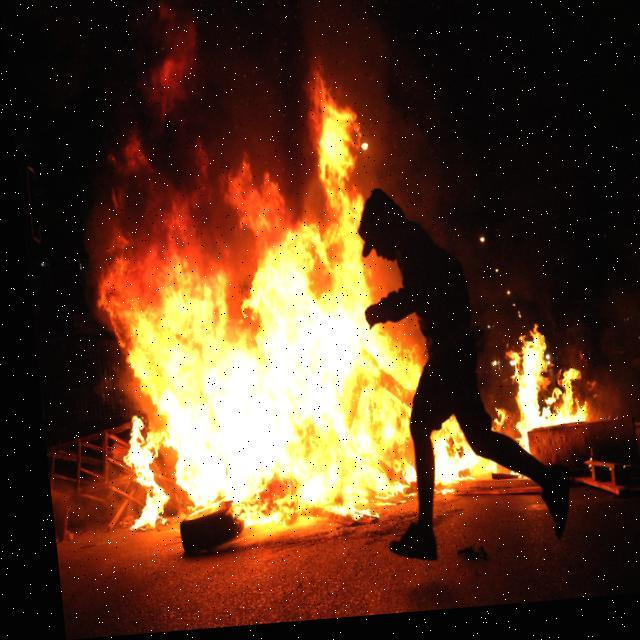Fire: (75, 82, 584, 535)
